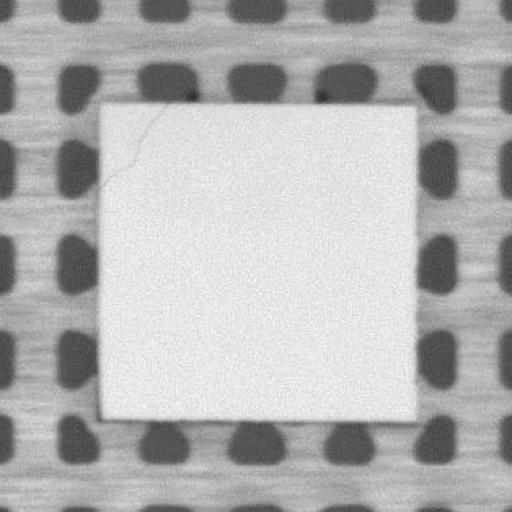DIE_CRACK: (102, 102, 170, 186)
